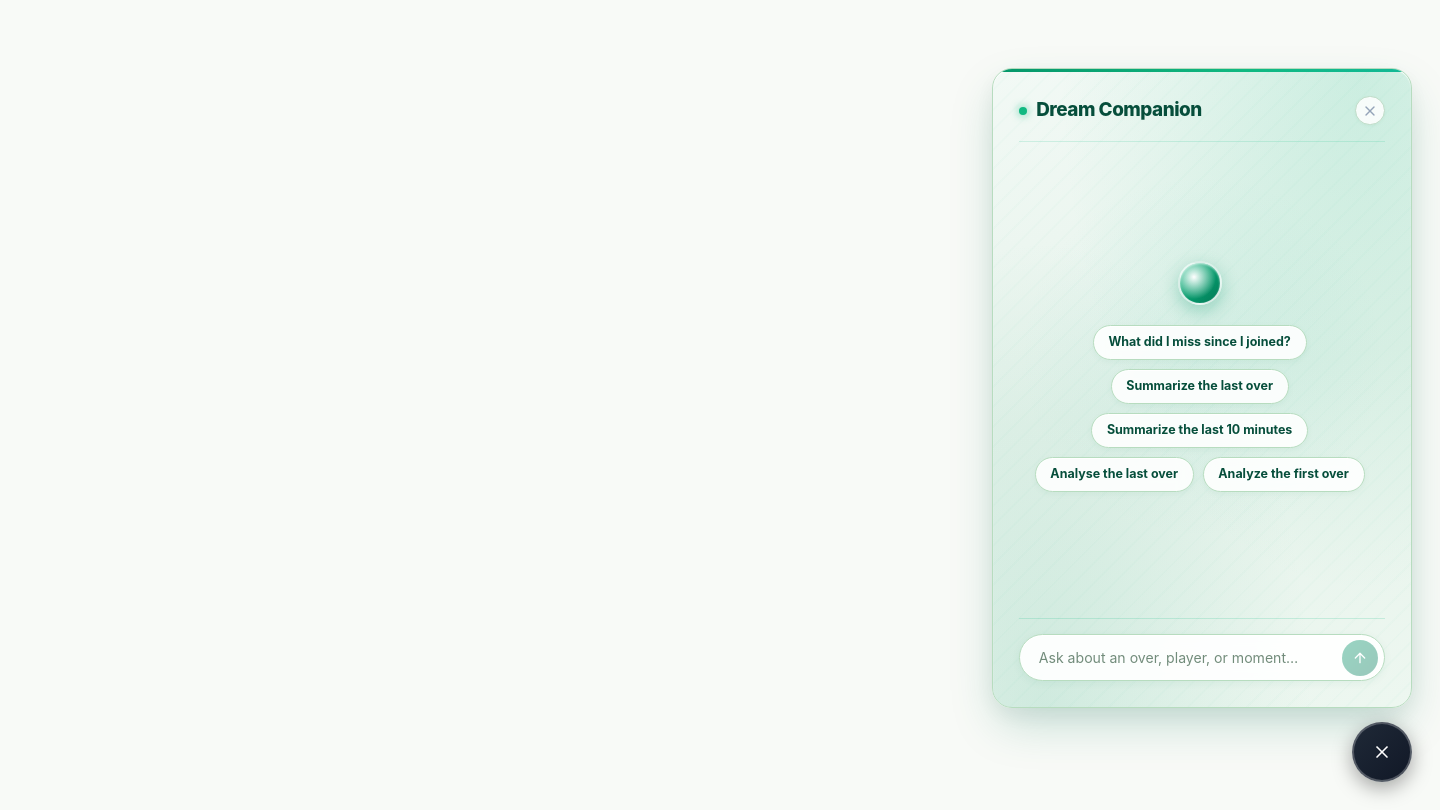
Test case: MatchCompanionChat › submits free-text queries and renders ANALYSIS responses with references
Type "How did Cummins bowl in over 16?" into the field named "Natural language match question".
click(1190, 658); type("How did Cummins bowl in over 16?")  # box [1039,641,1342,674]
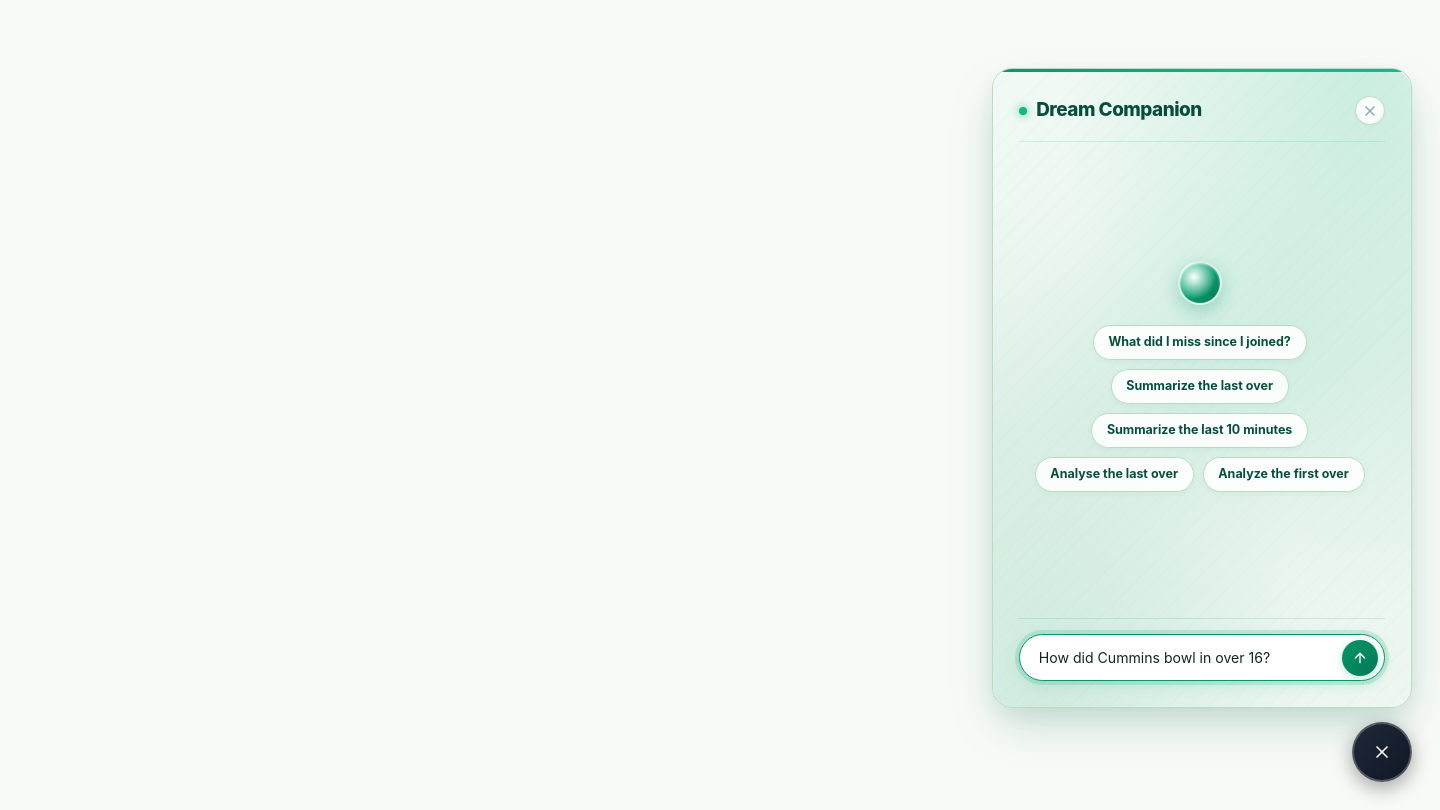
Click the button named "Send query".
click(1360, 658)  # box [1342,640,1378,676]
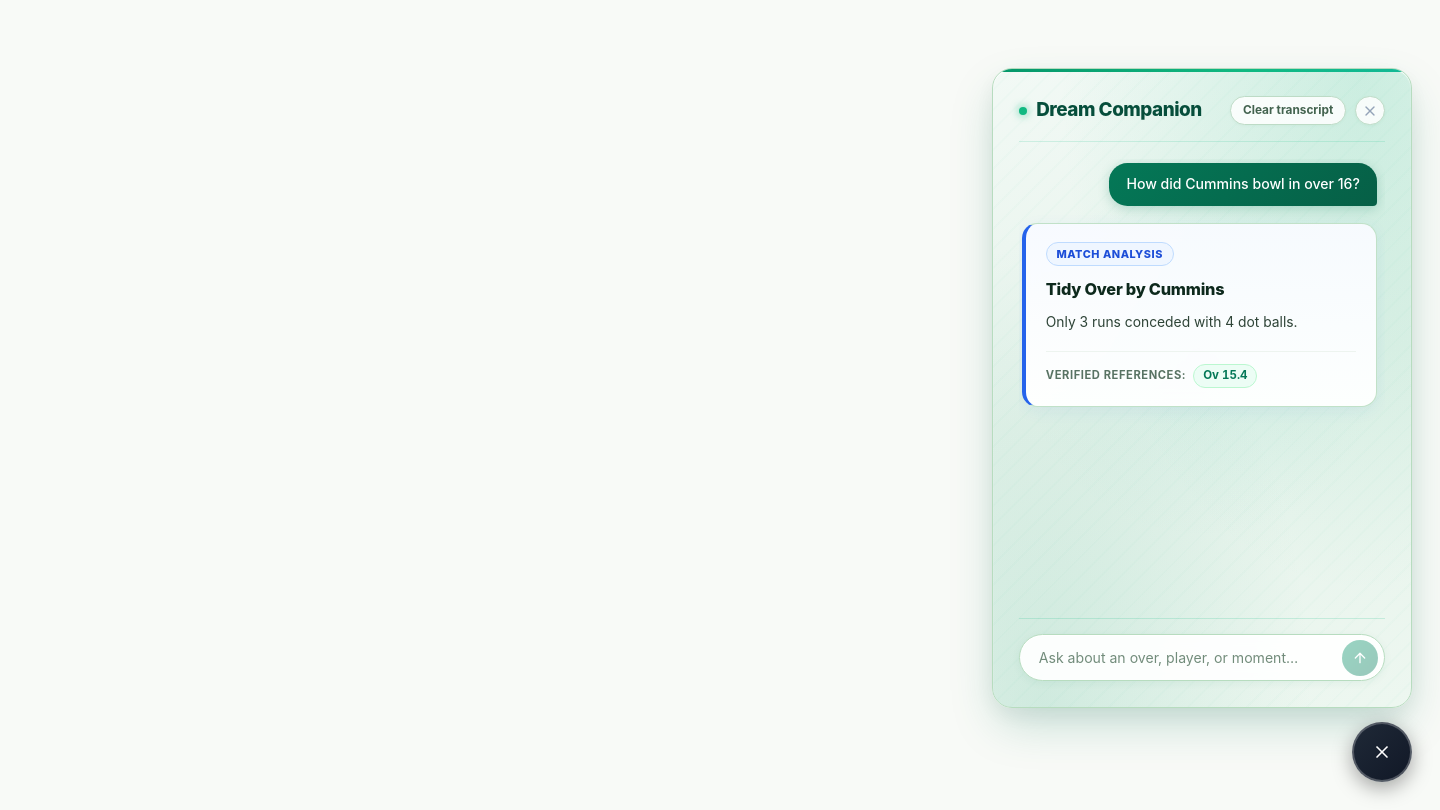
expect the text "How did Cummins bowl in over 16?" is shown: met, box [1126,174,1360,195]
expect the heading "Tidy Over by Cummins" is shown: met, box [1046,279,1224,299]
expect the text "Only 3 runs conceded with 4 dot balls." is shown: met, box [1046,314,1298,330]
